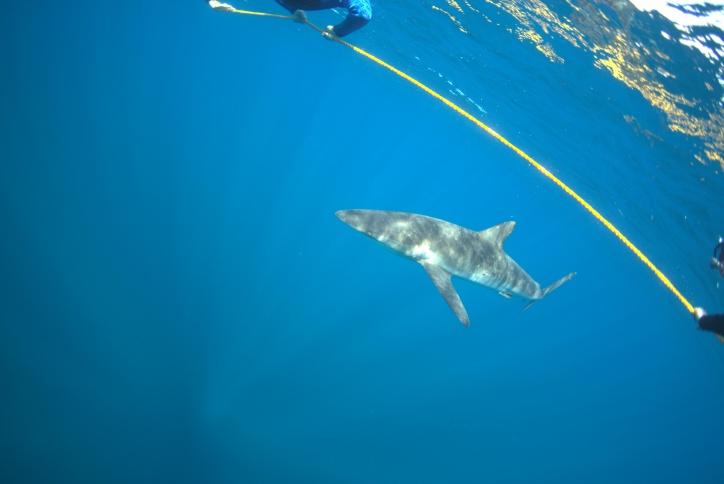Sedoso: (275, 174, 602, 347)
